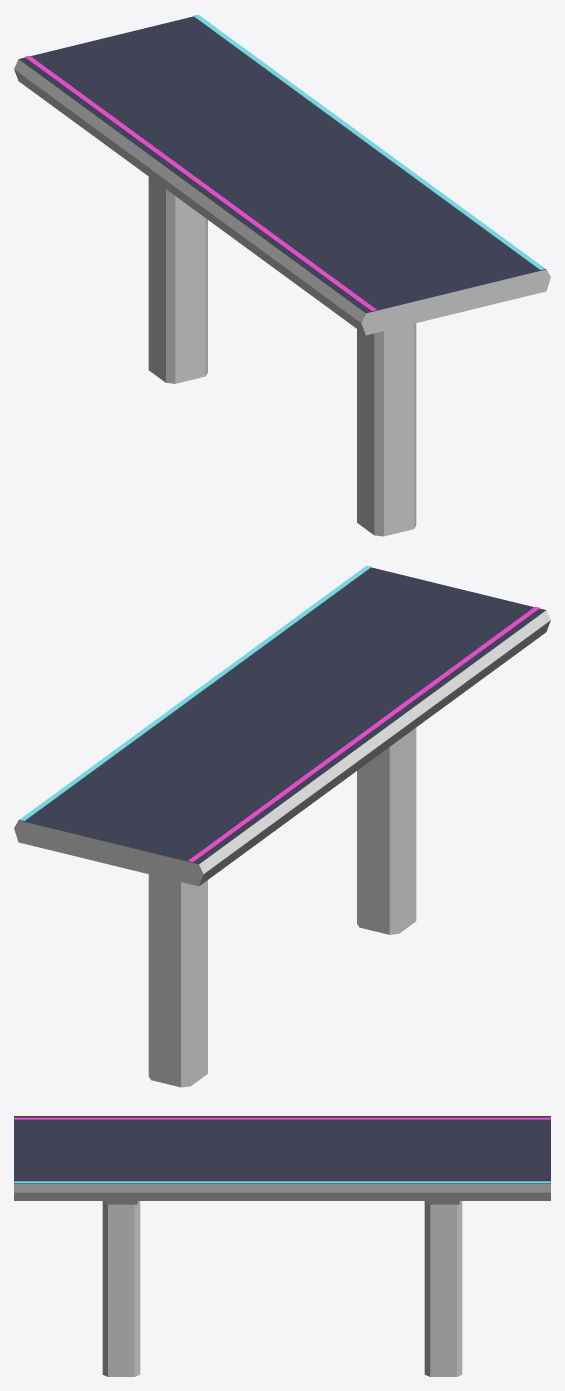
File: highway_straight.obj
The picture shows the model from 3 angles, top to bottom: view 1: azimuth 30°, elevation 25°; view 2: azimuth 150°, elevation 25°; view 3: azimuth 270°, elevation 25°; orthographic projection. The views are drawn at different scales.
Bounding box in the file's own units: 12.6 × 18.05 × 40.
